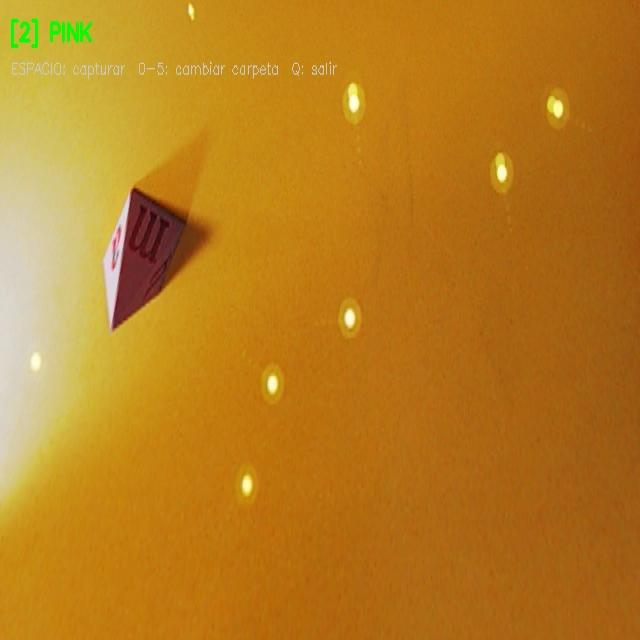pink: (107, 185, 189, 330)
